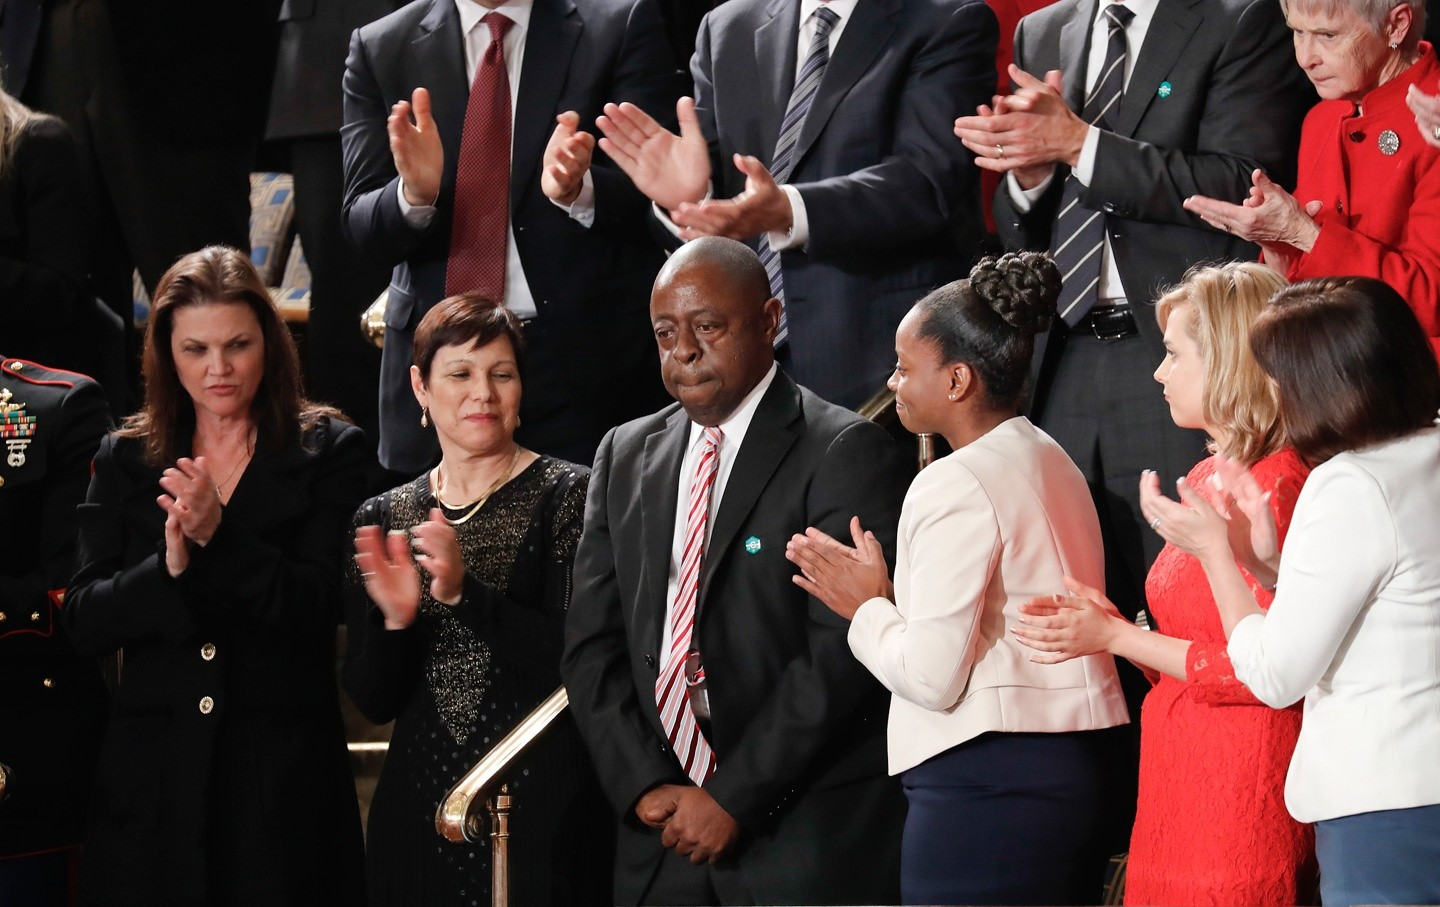face_no_mask: (149, 244, 288, 416), (650, 235, 783, 413), (1150, 262, 1283, 426), (886, 278, 1025, 432), (410, 296, 530, 450), (1286, 0, 1416, 101)
